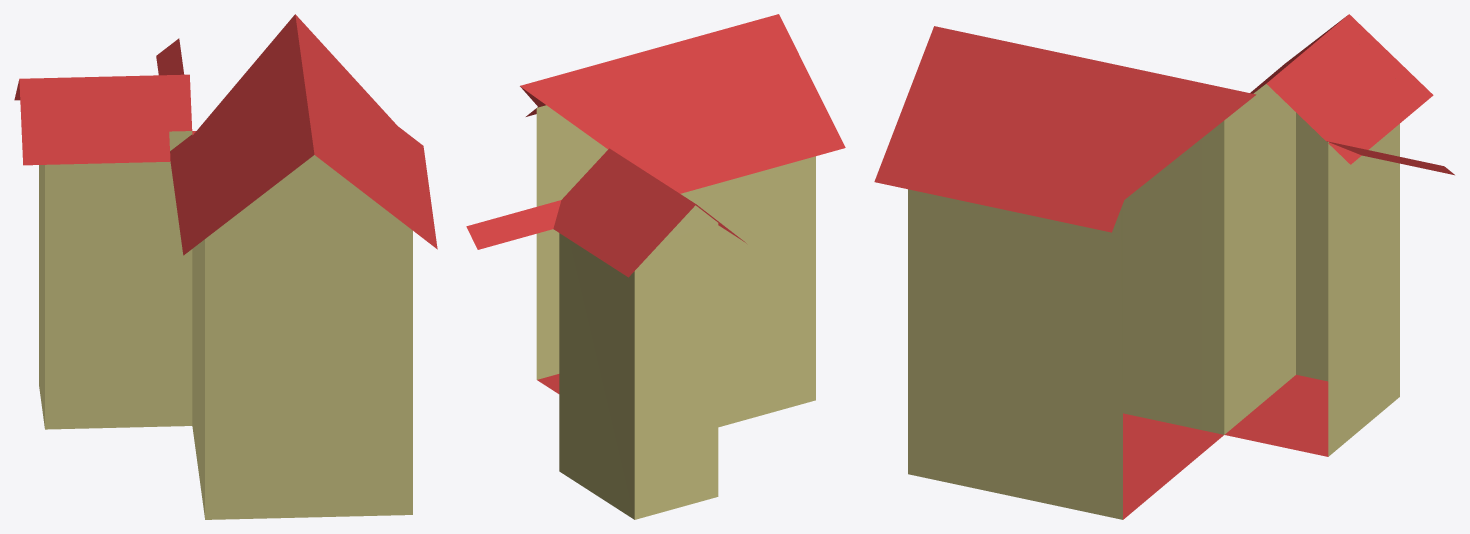
The picture shows the model from 3 angles, left to right: view 1: azimuth 30°, elevation 25°; view 2: azimuth 150°, elevation 25°; view 3: azimuth 270°, elevation 25°; orthographic projection. The views are drawn at different scales.
Bounding box in the file's own units: 7.97 × 11.59 × 8.85.
